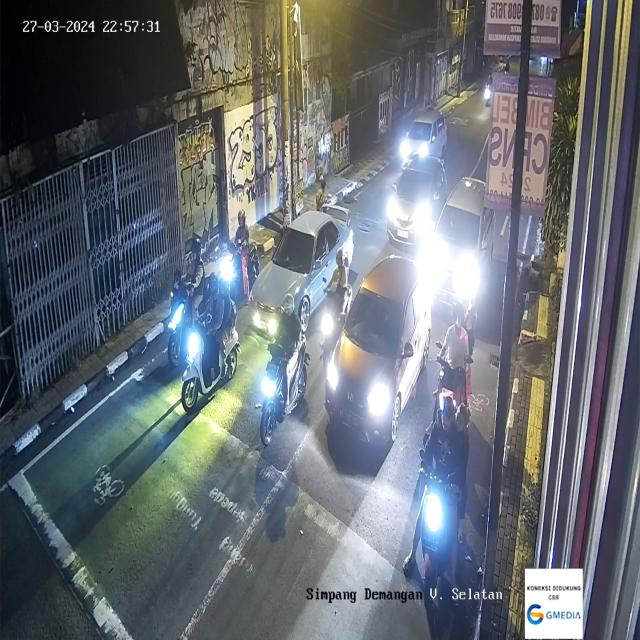car: (323, 256, 425, 465), (250, 202, 348, 348), (434, 178, 497, 297), (390, 156, 447, 250), (397, 104, 448, 184)
motorcycle: (418, 394, 470, 621), (182, 272, 241, 396), (259, 294, 305, 436), (164, 238, 210, 359), (436, 290, 476, 423), (317, 245, 353, 353), (222, 208, 260, 300)
